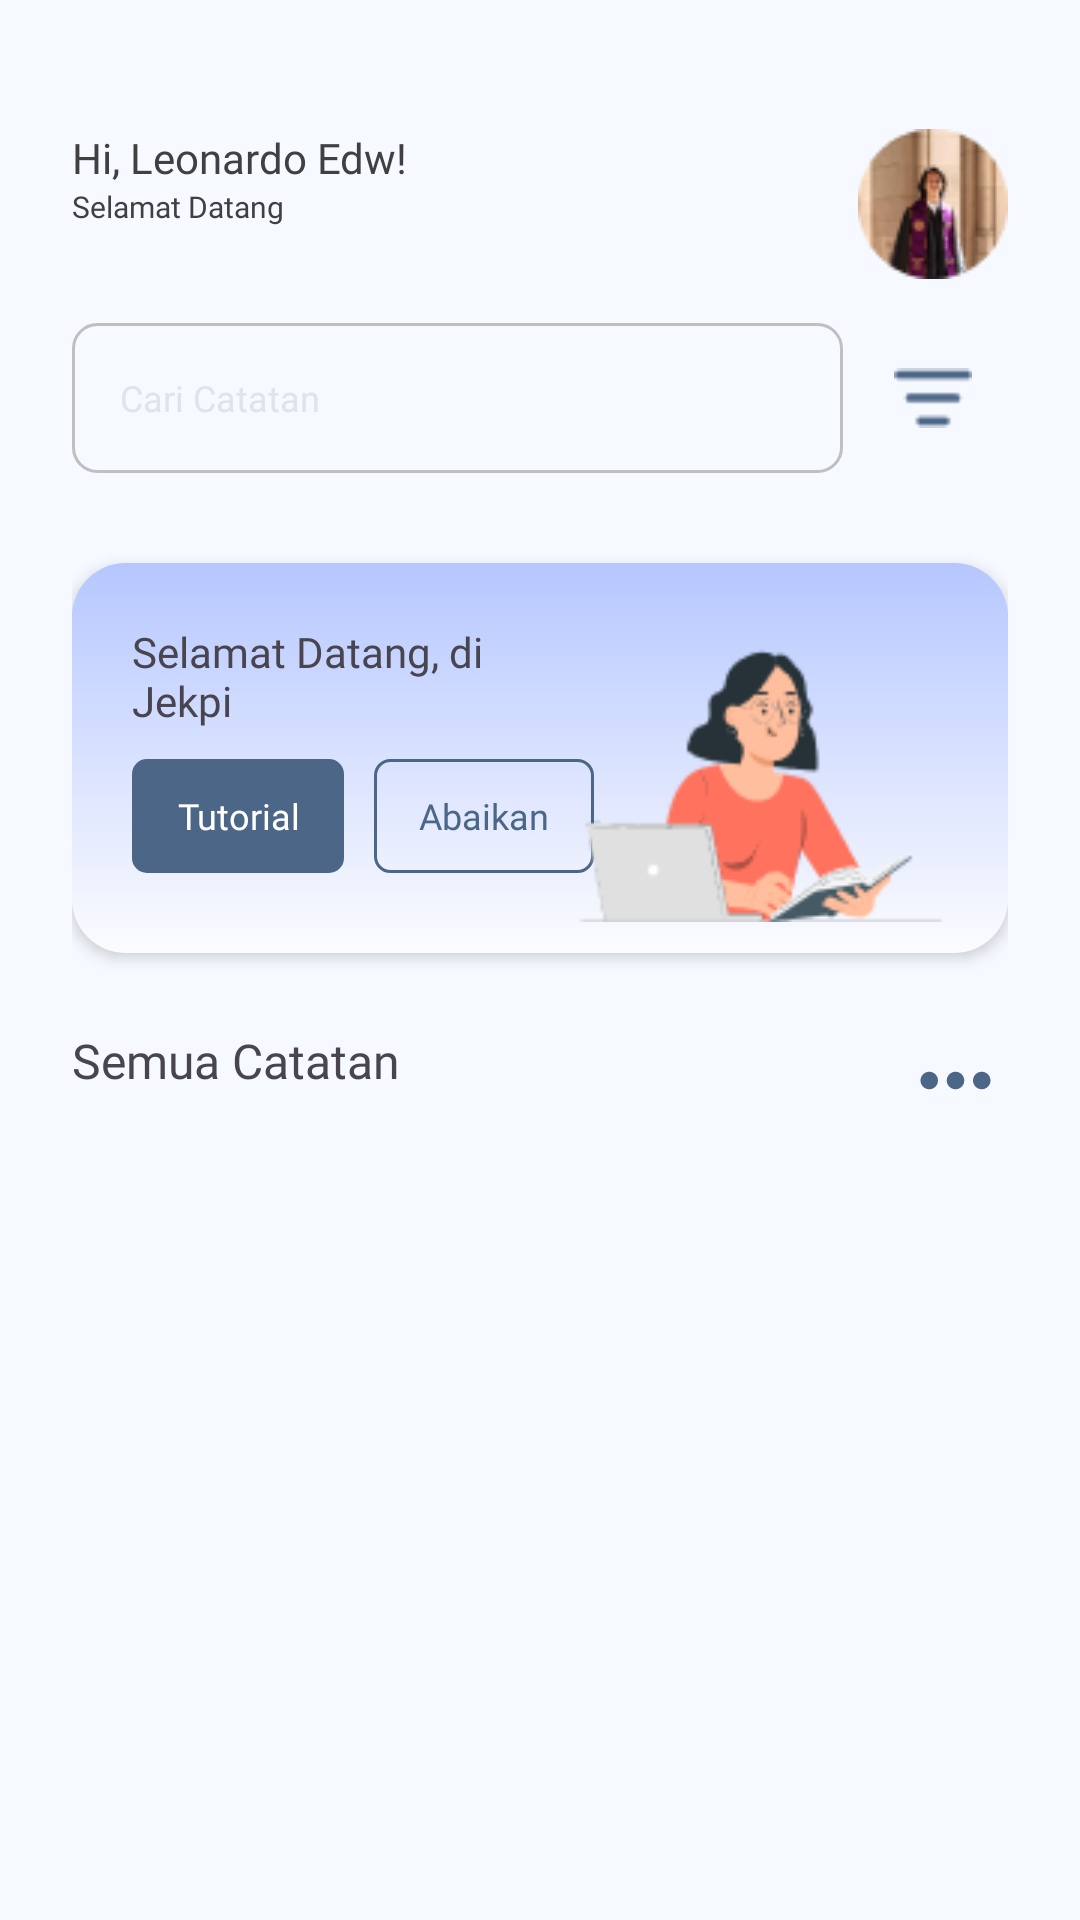

Locate icon controls on the screen. Image size 1080x1920, boxes as (x1, y1, x2, y2).
filter: (894, 368, 972, 428)
more: (920, 1071, 991, 1090)
